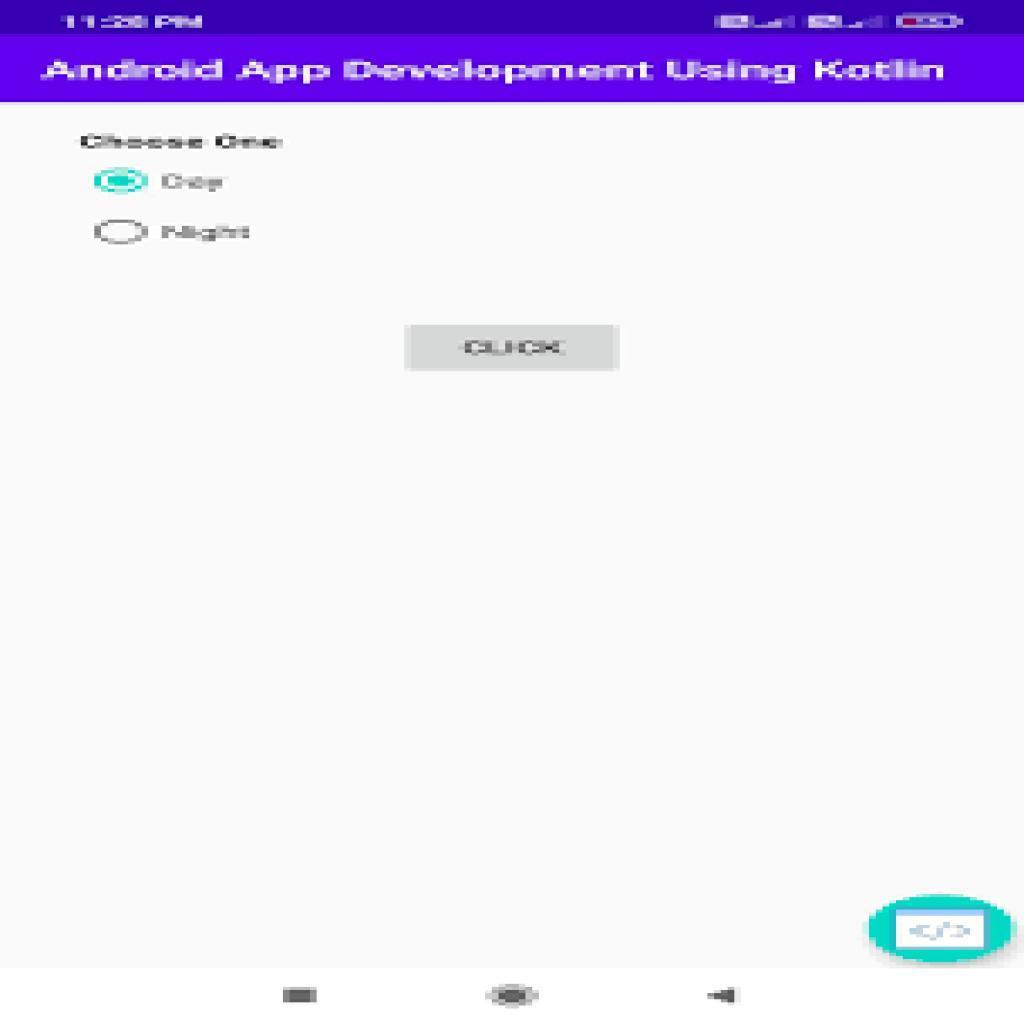button: (406, 323, 620, 373)
icon: (892, 904, 989, 953)
radio: (93, 217, 152, 251), (93, 165, 153, 197)
